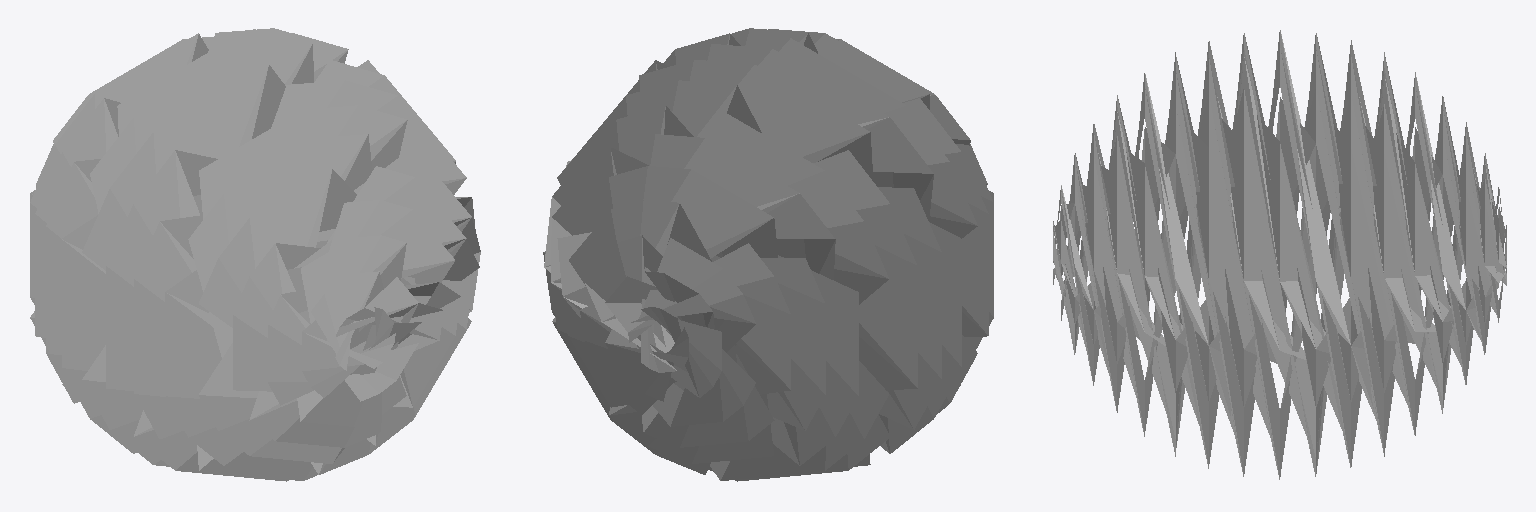
Rendered from eye.obj.
The picture shows the model from 3 angles: view 1: azimuth 30°, elevation 25°; view 2: azimuth 150°, elevation 25°; view 3: azimuth 270°, elevation 25°; orthographic projection.
Visible parts, largest first — view 1: pSphere1; view 2: pSphere1; view 3: pSphere1.
Boxes of the visible parts, box(x1,y1,x2,y2) form: pSphere1: box(30, 28, 480, 481); pSphere1: box(543, 28, 993, 481); pSphere1: box(1053, 30, 1506, 479).
Size of the model in its own units: 1.95 by 2 by 1.98.